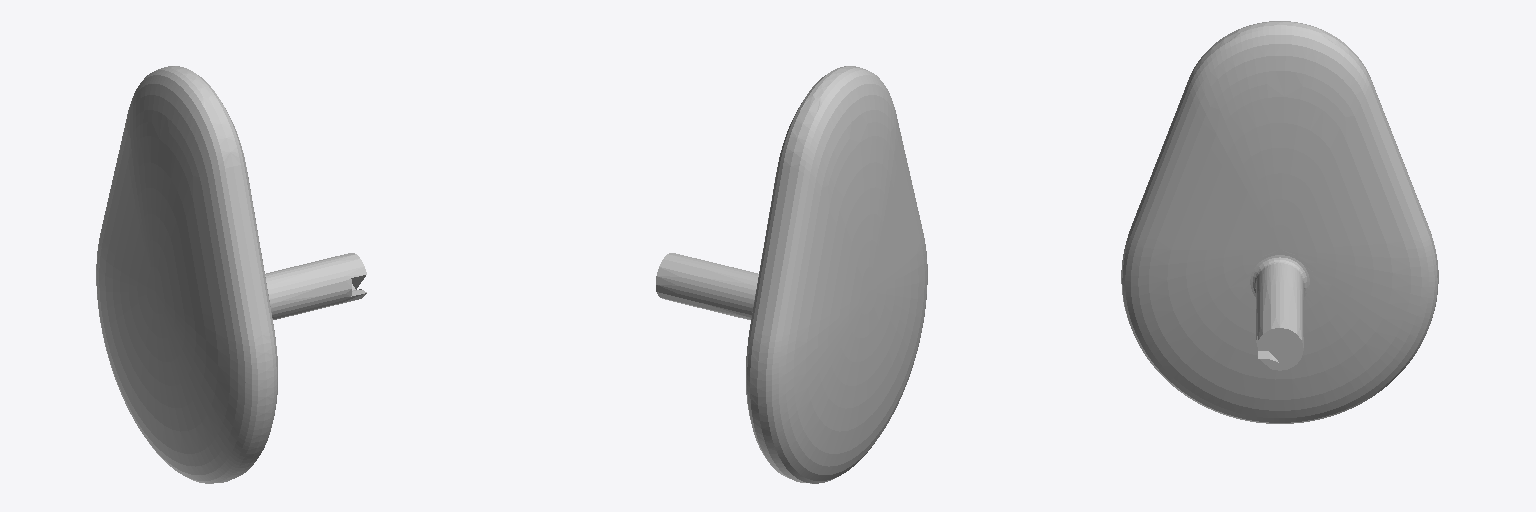
The model's file is left_ear.obj.
3 views of the same model, side by side, from view 1: azimuth 30°, elevation 25°; view 2: azimuth 150°, elevation 25°; view 3: azimuth 270°, elevation 25° (orthographic).
Size of the model in its own units: 38 by 72 by 51.99.